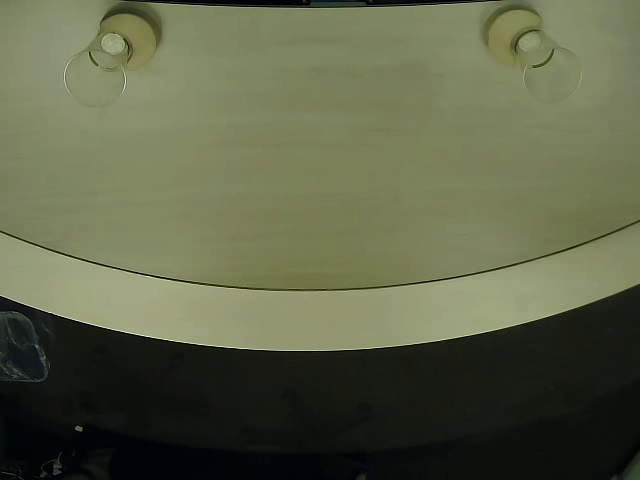Cup: (60, 33, 133, 113), (513, 26, 585, 107)
Deliver: (99, 6, 164, 77), (483, 2, 545, 67)
